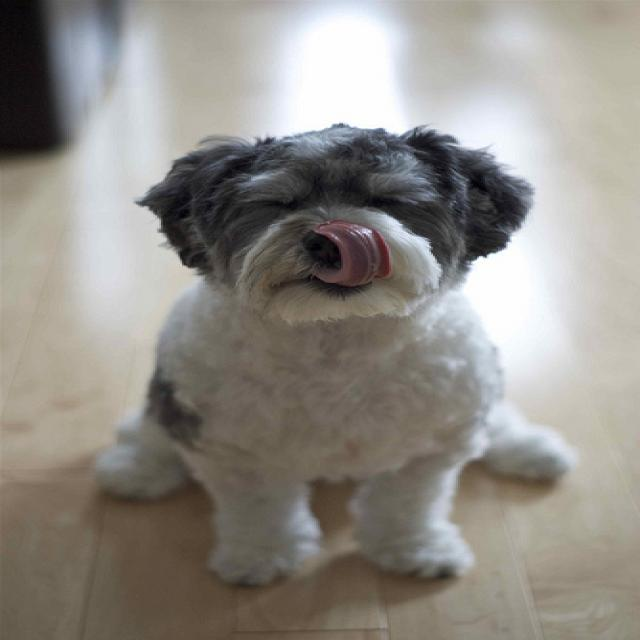dog-havanese: (73, 114, 600, 594)
